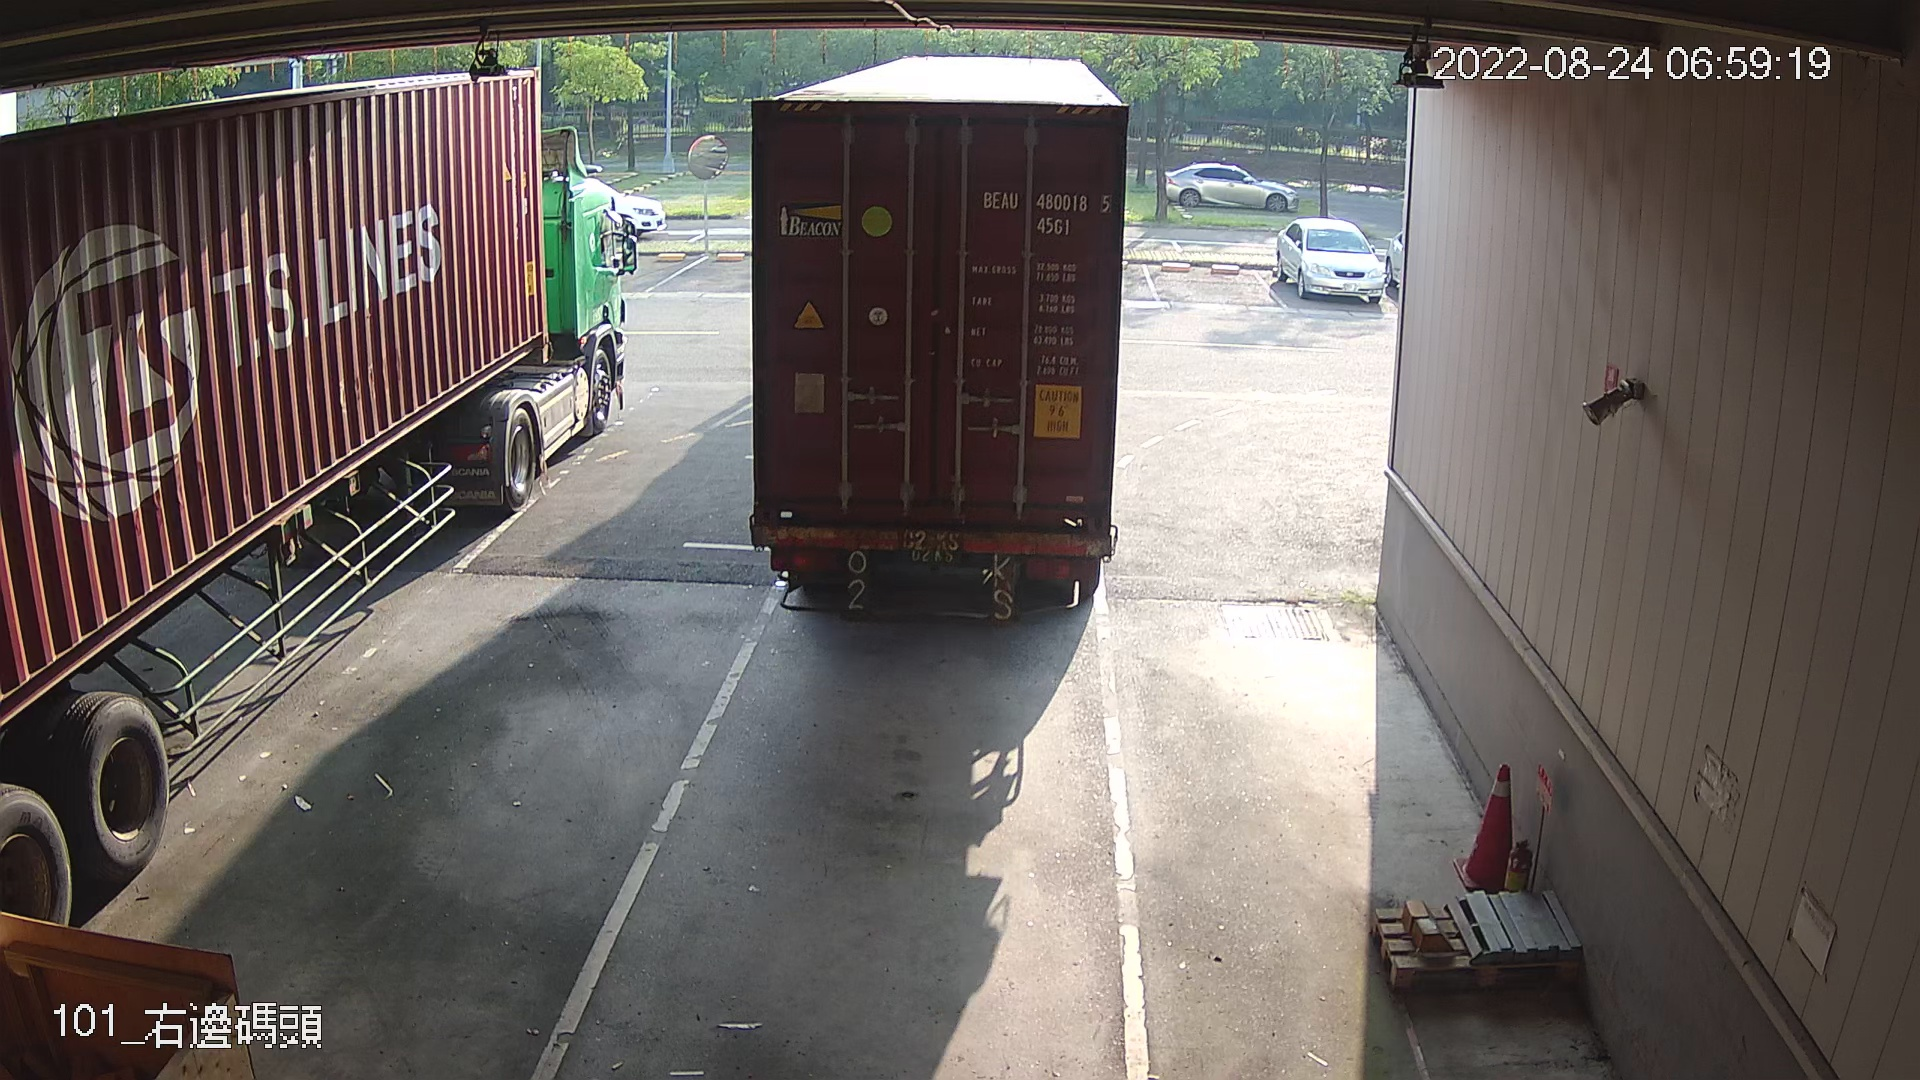container: (978, 182, 1117, 243)
